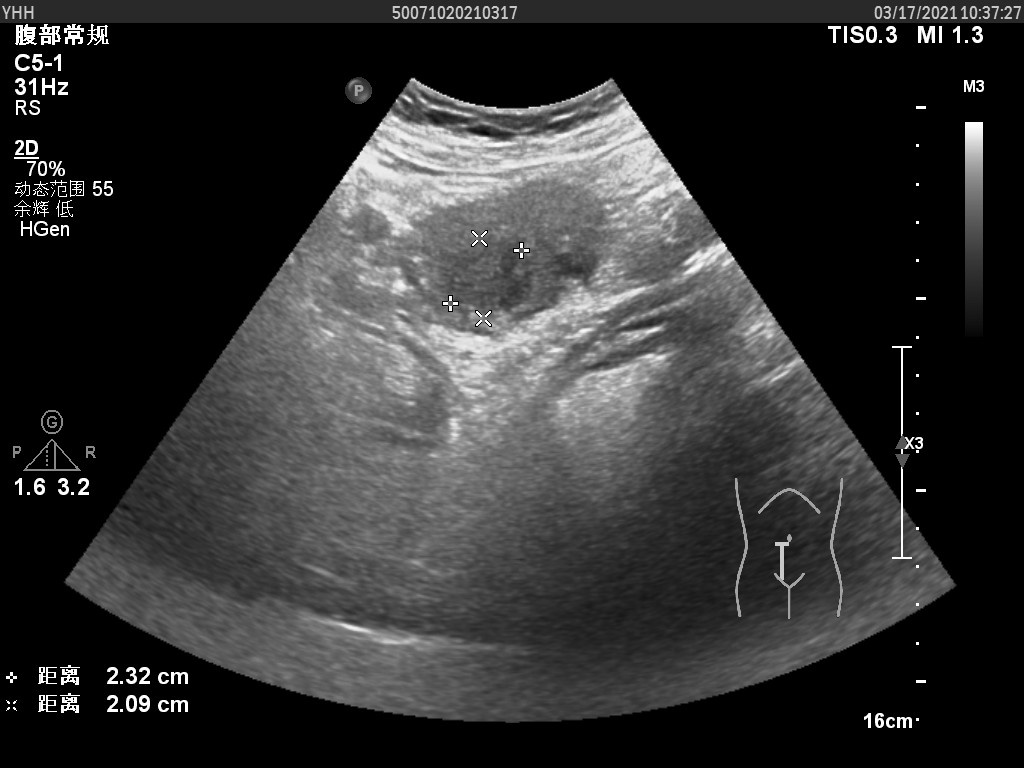肌瘤: (451, 236, 526, 316)
